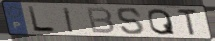B: (85, 7, 116, 35)
I: (62, 6, 75, 34)
L: (26, 5, 57, 33)
Q: (146, 8, 177, 36)
S: (116, 7, 146, 36)
T: (176, 8, 200, 37)
